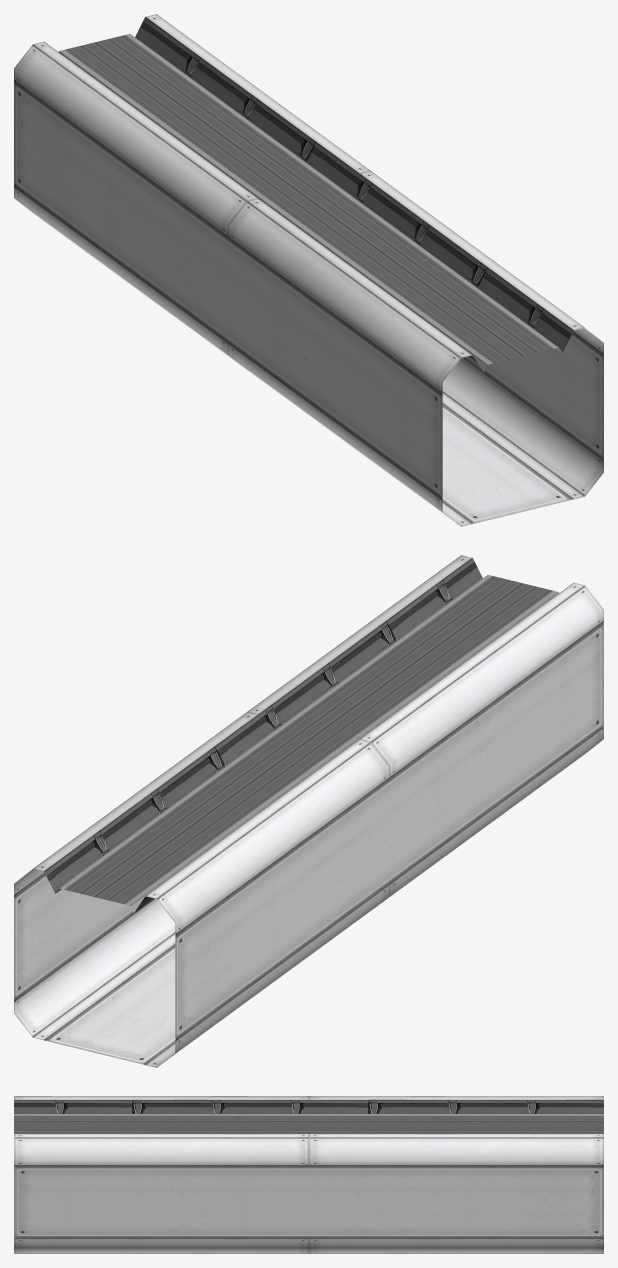
File: CeilingBrace_1x6capped.FBX
3 views of the same model, one above another, from view 1: azimuth 30°, elevation 25°; view 2: azimuth 150°, elevation 25°; view 3: azimuth 270°, elevation 25° (orthographic). The views are drawn at different scales.
Visible parts, largest first — view 1: CeilingBrace_1x6capped; view 2: CeilingBrace_1x6capped; view 3: CeilingBrace_1x6capped.
Boxes of the visible parts, x1,y1,x2,y2 form: CeilingBrace_1x6capped: [14, 14, 603, 526]; CeilingBrace_1x6capped: [14, 555, 603, 1067]; CeilingBrace_1x6capped: [14, 1096, 603, 1253].
Bounding box in the file's own units: 1.3 × 1.3 × 6.
